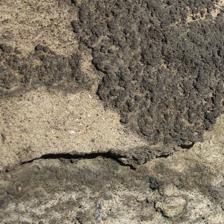Crack: (4, 67, 192, 110)
